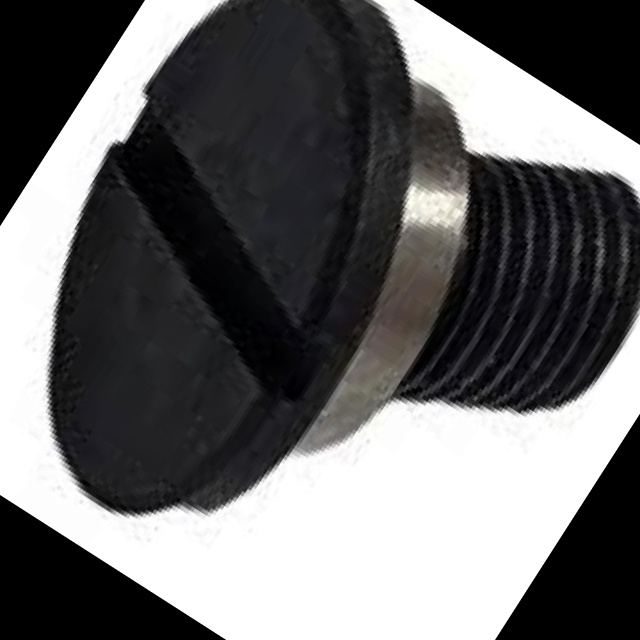duz: (0, 0, 526, 583)
